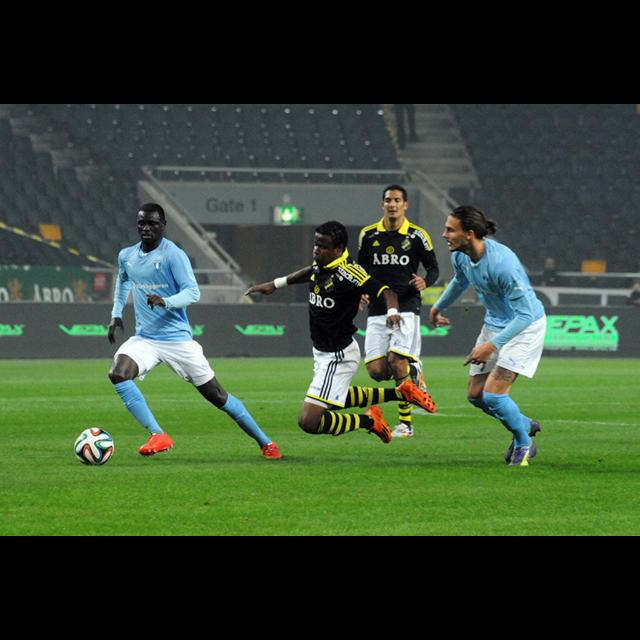Football: (72, 426, 115, 466)
